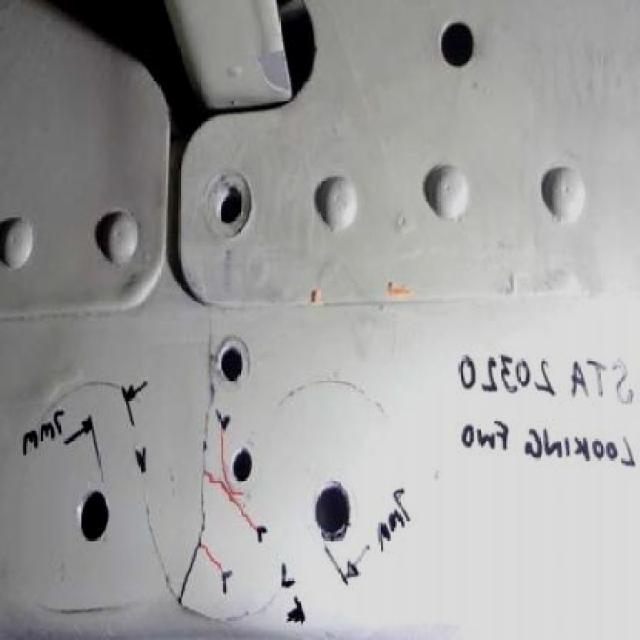crack: (179, 313, 212, 607)
